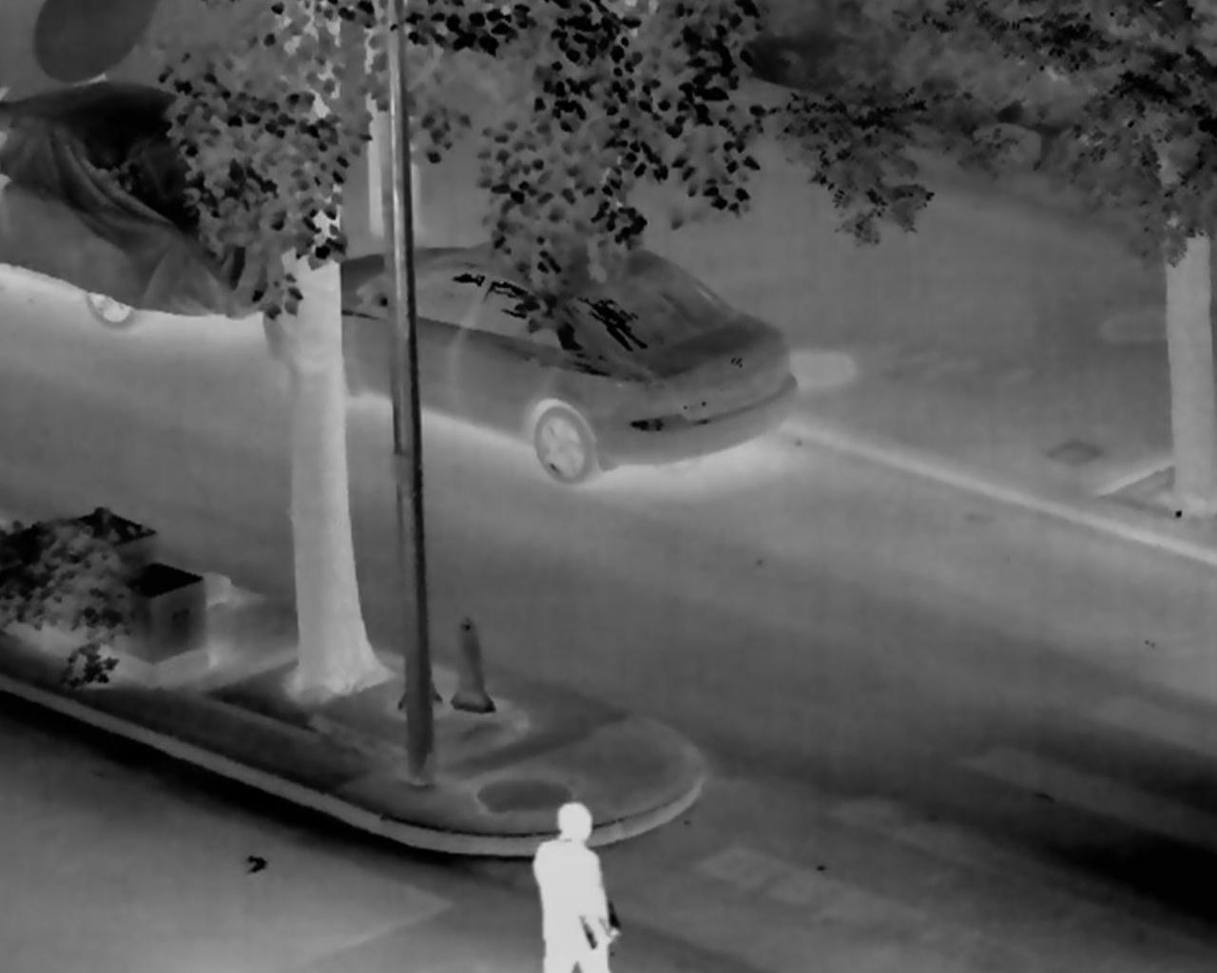person: (528, 799, 624, 973)
